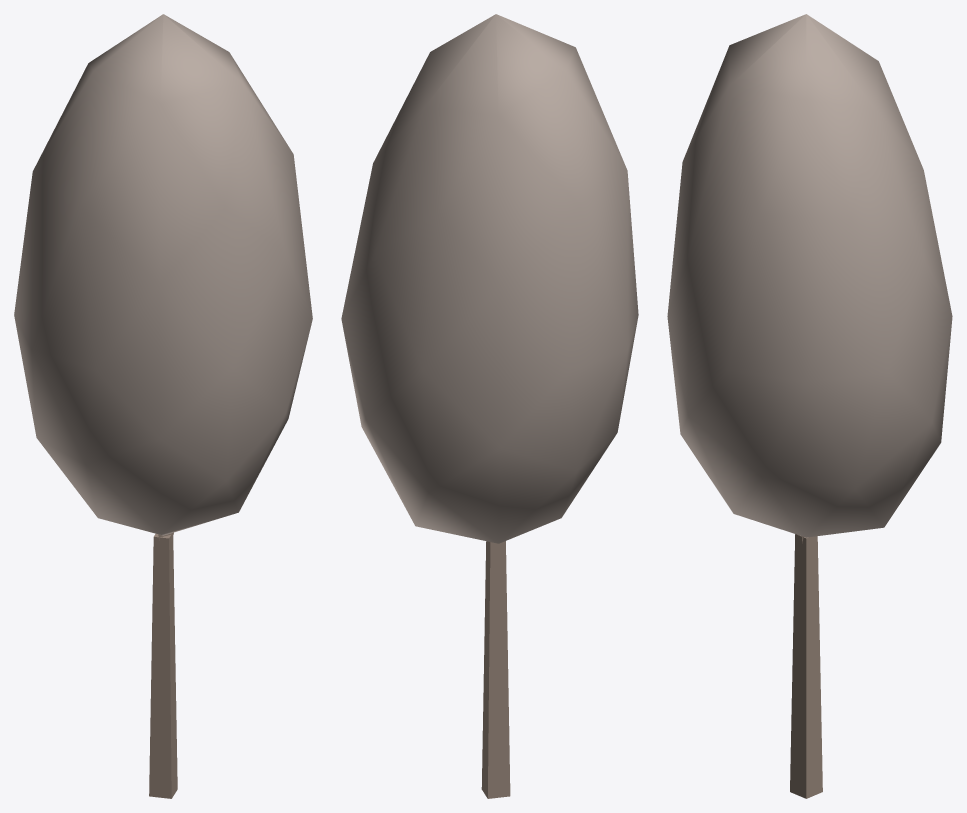
Rendered from tree-broadleaf-c-bare-far.glb.
The picture shows the model from 3 angles, left to right: view 1: azimuth 30°, elevation 25°; view 2: azimuth 150°, elevation 25°; view 3: azimuth 270°, elevation 25°; orthographic projection.
Parts seen in each view (by area): view 1: tree-broadleaf-c-bare-far; view 2: tree-broadleaf-c-bare-far; view 3: tree-broadleaf-c-bare-far.
Boxes of the visible parts, box(x1,y1,x2,y2) form: tree-broadleaf-c-bare-far: box(14, 14, 312, 798); tree-broadleaf-c-bare-far: box(341, 14, 638, 798); tree-broadleaf-c-bare-far: box(667, 14, 952, 798).
Bounding box in the file's own units: 0.3501 × 0.9741 × 0.3235.
